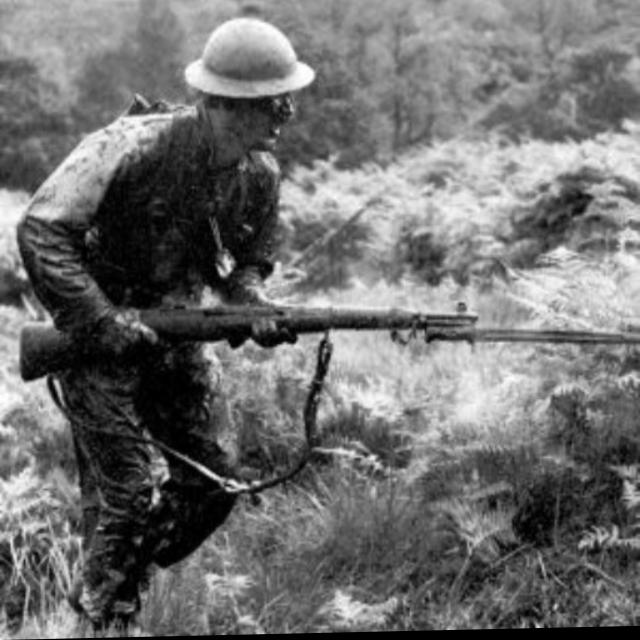other: (33, 12, 283, 638)
